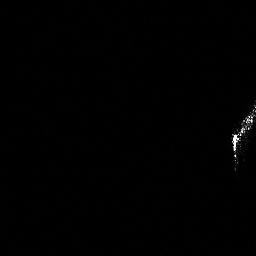ship: (226, 103, 256, 174)
